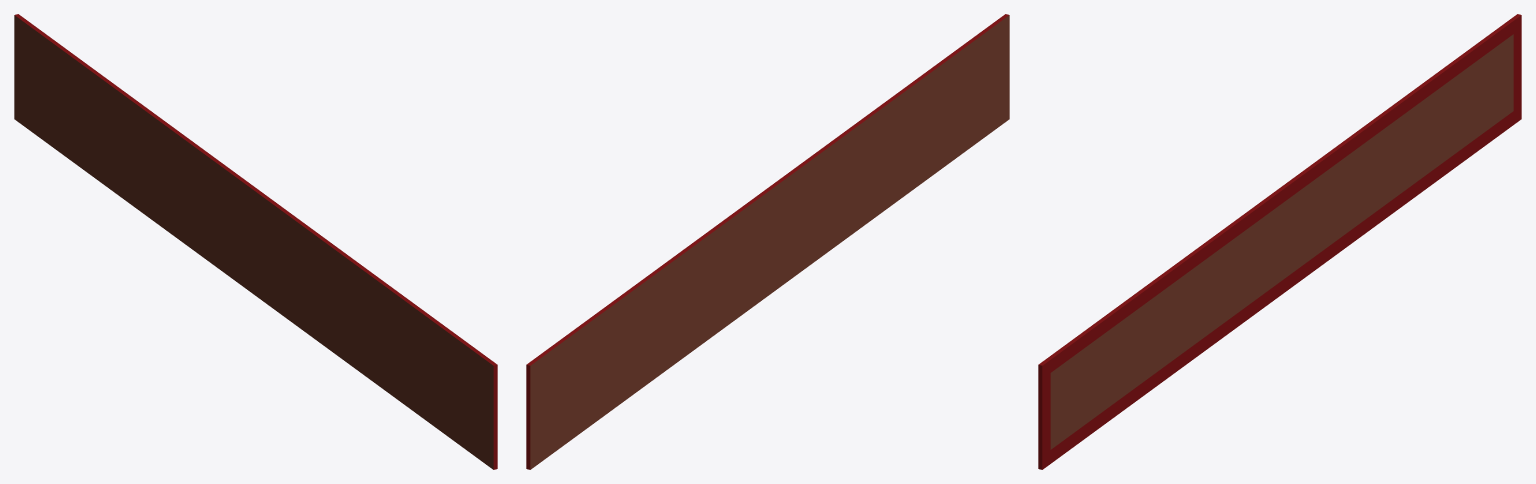
The model's file is lib_longsign.fbx.
3 views of the same model, side by side, from view 1: azimuth 30°, elevation 25°; view 2: azimuth 150°, elevation 25°; view 3: azimuth 330°, elevation 25° (orthographic).
Visible parts, largest first — view 1: Plane.004; view 2: Plane.004; view 3: Plane.004.
Boxes of the visible parts, bbox=[...] form: Plane.004: bbox=[14, 14, 497, 469]; Plane.004: bbox=[526, 14, 1009, 469]; Plane.004: bbox=[1038, 14, 1521, 469].
Bounding box in the file's own units: 53.01 × 1299 × 10820.
